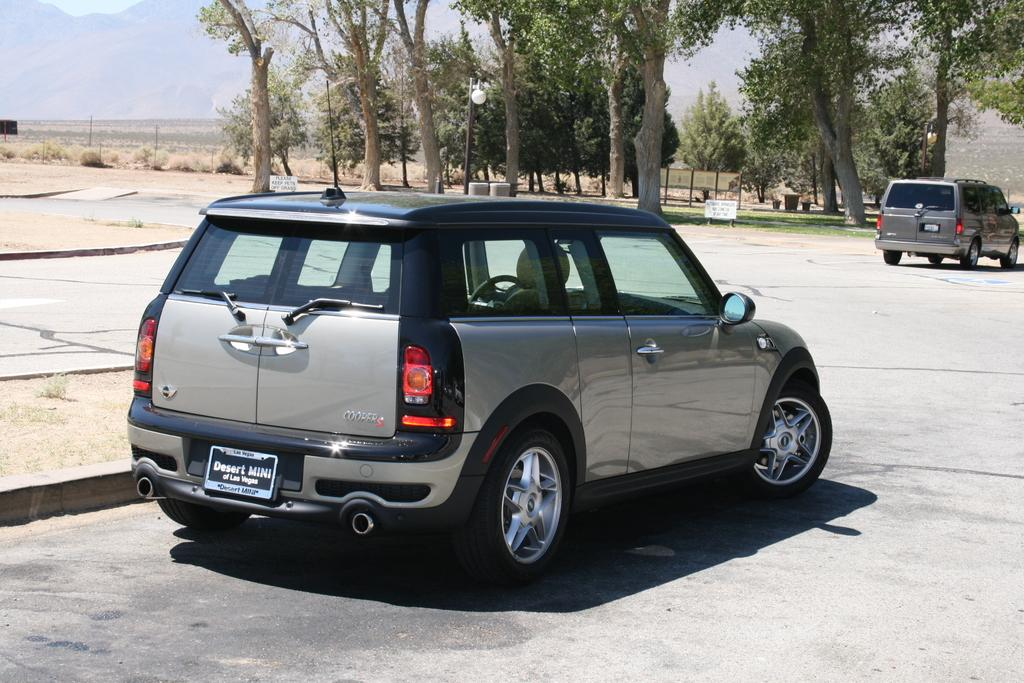vehicle: (127, 187, 832, 585), (875, 178, 1021, 269)
